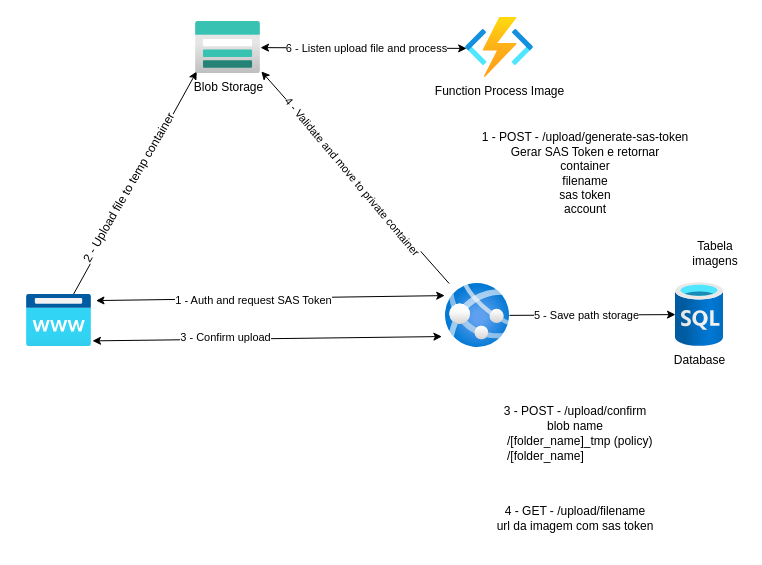
This 762x565 diagram has some shape labels left out. Here are the shapes that lost their labels. From the top down, the centre of each, then its label:
At pixel 58 320: "Browser (client)".
At pixel 477 315: "Application (server)".
